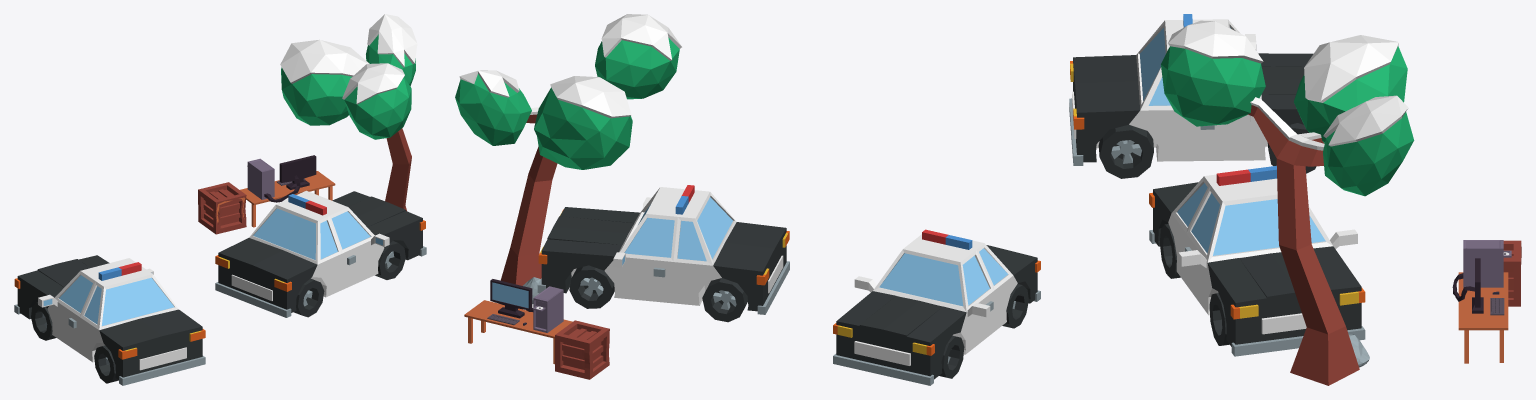
3 views of the same model, side by side, from view 1: azimuth 30°, elevation 25°; view 2: azimuth 150°, elevation 25°; view 3: azimuth 270°, elevation 25° (orthographic). The views are drawn at different scales.
Parts seen in each view (by area): view 1: Cylinder, Cylinder.001, Cube, Crate, Cube.002, Cube.004, Cube.003; view 2: Cylinder, Cube, Cylinder.001, Crate, Cube.002, Cube.003, Cube.004; view 3: Cube, Cylinder, Cylinder.001, Cube.002, Cube.004, Crate, Cube.003.
Boxes of the visible parts, x1,y1,x2,y2 form: Cylinder: (215, 190, 426, 317); Cylinder.001: (14, 255, 205, 385); Cube: (280, 14, 417, 210); Crate: (198, 182, 246, 234); Cube.002: (240, 171, 335, 227); Cube.004: (247, 158, 274, 199); Cube.003: (279, 155, 316, 189); Cylinder: (537, 185, 789, 322); Cube: (455, 14, 681, 285); Cylinder.001: (833, 229, 1040, 385); Crate: (555, 320, 609, 379); Cube.002: (464, 300, 572, 364); Cube.003: (490, 279, 532, 318); Cube.004: (533, 286, 563, 332); Cube: (1161, 20, 1414, 385); Cylinder: (1149, 165, 1365, 356); Cylinder.001: (1069, 14, 1316, 178); Cube.002: (1458, 272, 1508, 363); Cube.004: (1463, 240, 1511, 287); Crate: (1503, 240, 1521, 306); Cube.003: (1472, 258, 1483, 313).
Size of what is drawn, in the model's own units: 27.35 by 13.69 by 18.23.
Materials: 6 (6 with a texture image).
